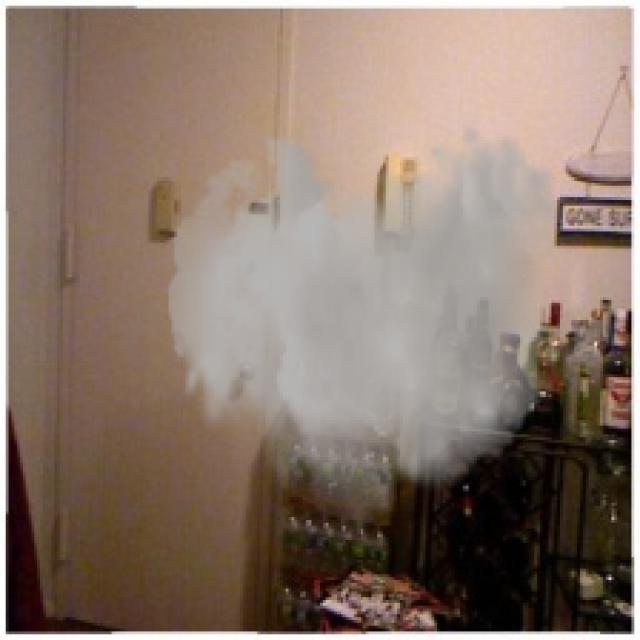Smoke: (168, 123, 560, 543)
